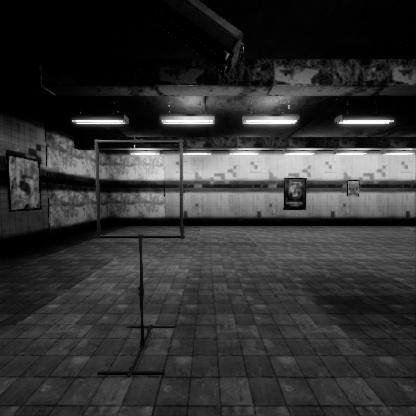gate: (95, 176, 192, 276)
